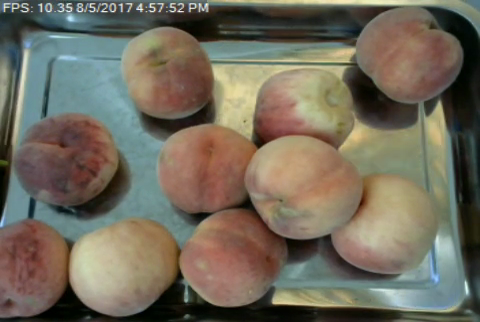Peach: (246, 136, 362, 238), (331, 173, 440, 275), (353, 7, 464, 105), (180, 208, 286, 308), (69, 218, 177, 316), (14, 112, 120, 206), (153, 122, 251, 214), (121, 26, 216, 119), (253, 67, 355, 149), (0, 219, 70, 317)
